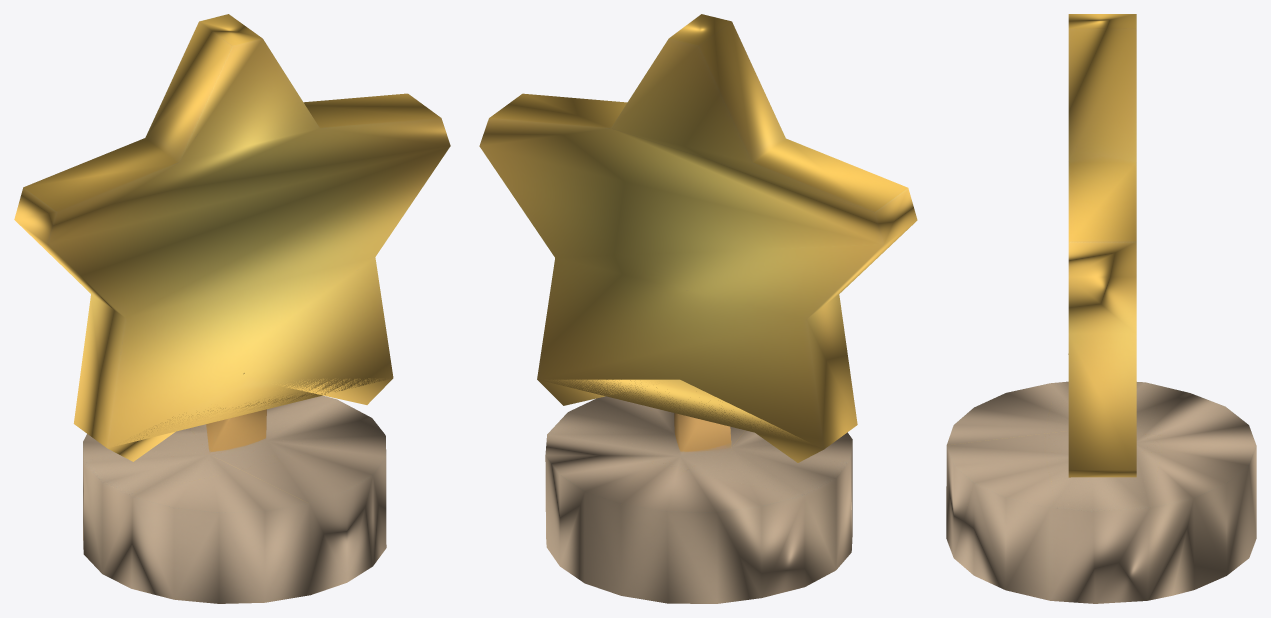
File: night_light.fbx
3 views of the same model, side by side, from view 1: azimuth 30°, elevation 25°; view 2: azimuth 150°, elevation 25°; view 3: azimuth 270°, elevation 25° (orthographic).
Visible parts, largest first — view 1: Mesh_0; view 2: Mesh_0; view 3: Mesh_0.
Boxes of the visible parts, box(x1,y1,x2,y2) form: Mesh_0: box(14, 14, 450, 603); Mesh_0: box(479, 14, 917, 603); Mesh_0: box(946, 14, 1256, 603).
Bounding box in the file's own units: 78.47 × 95.02 × 51.61.
1 material, 1 textured.
